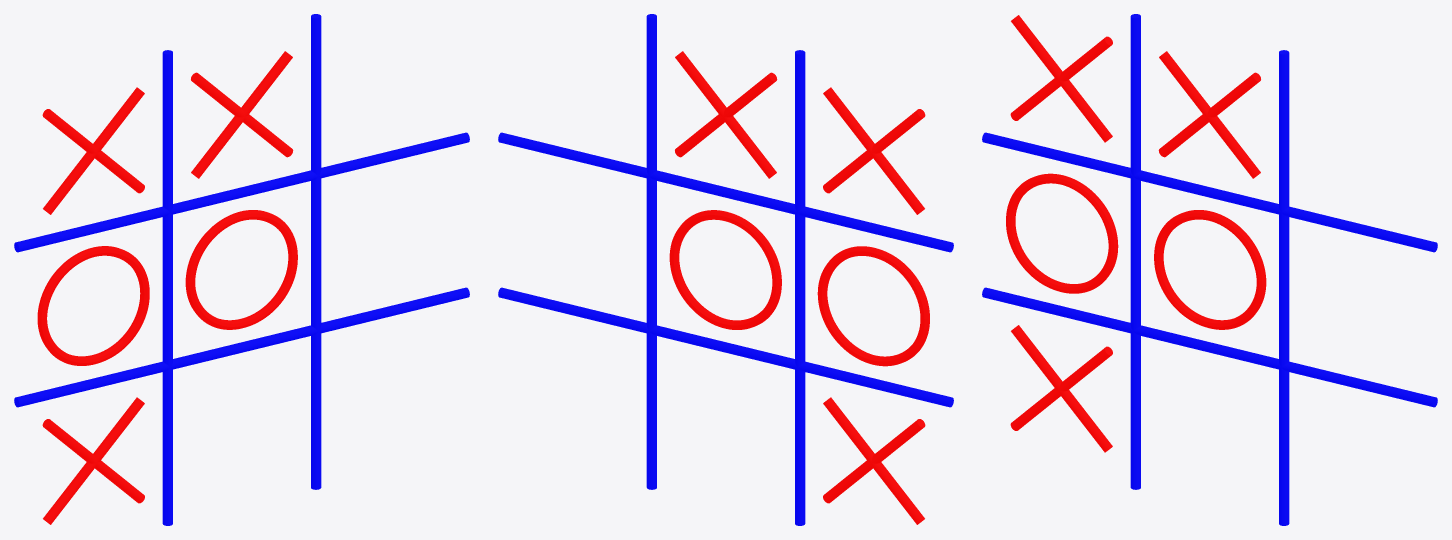
3 views of the same model, side by side, from view 1: azimuth 30°, elevation 25°; view 2: azimuth 150°, elevation 25°; view 3: azimuth 330°, elevation 25° (orthographic).
Bounding box in the file's own units: 1.01 × 1.01 × 0.0199.
